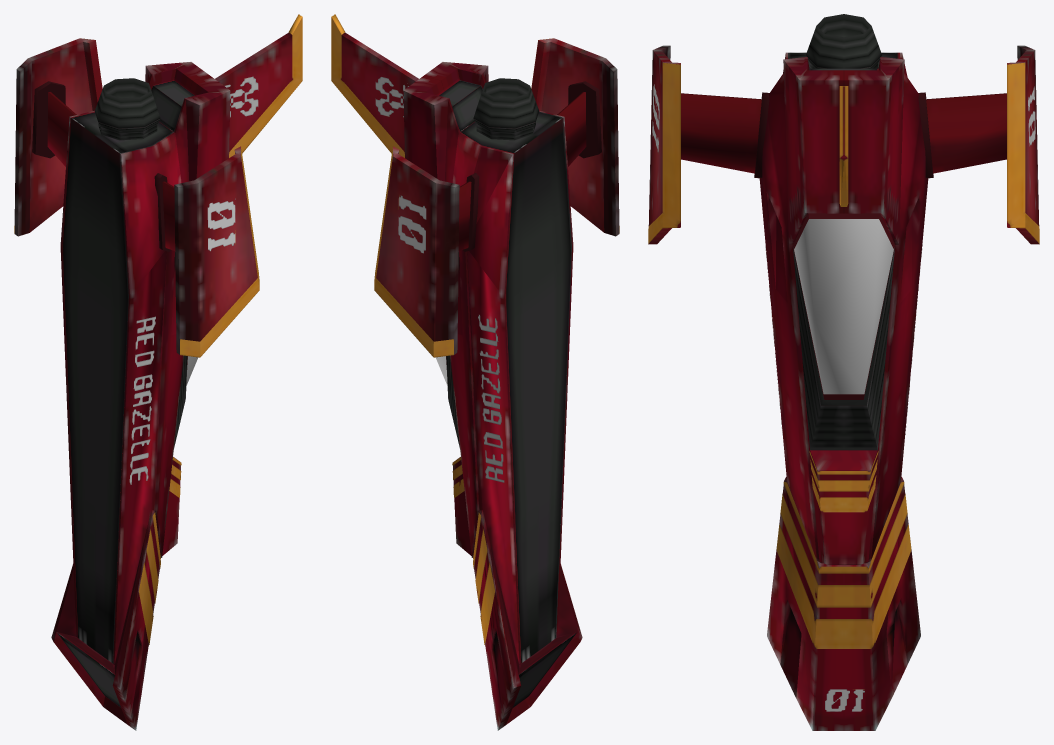
Rendered from RedGazelle.obj.
The picture shows the model from 3 angles, left to right: view 1: azimuth 30°, elevation 25°; view 2: azimuth 150°, elevation 25°; view 3: azimuth 270°, elevation 25°; orthographic projection. The views are drawn at different scales.
Bounding box in the file's own units: 1.34 × 3.9 × 1.87.
Materials: 1 (1 with a texture image).
